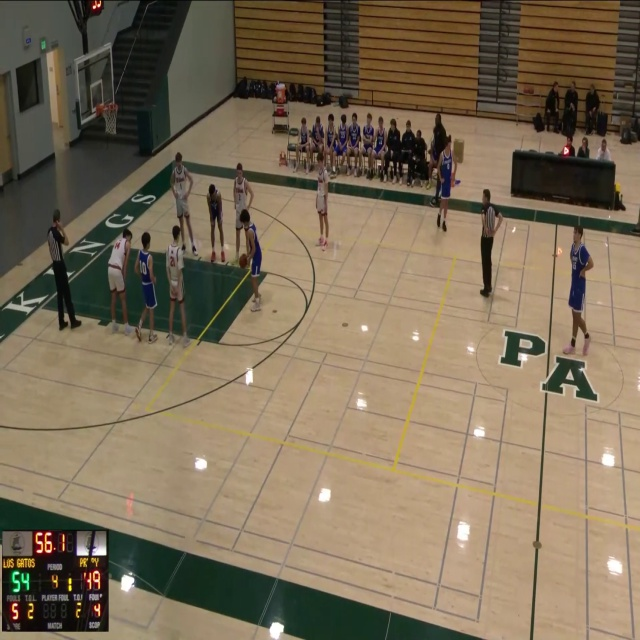Basketball: (239, 253, 248, 268)
